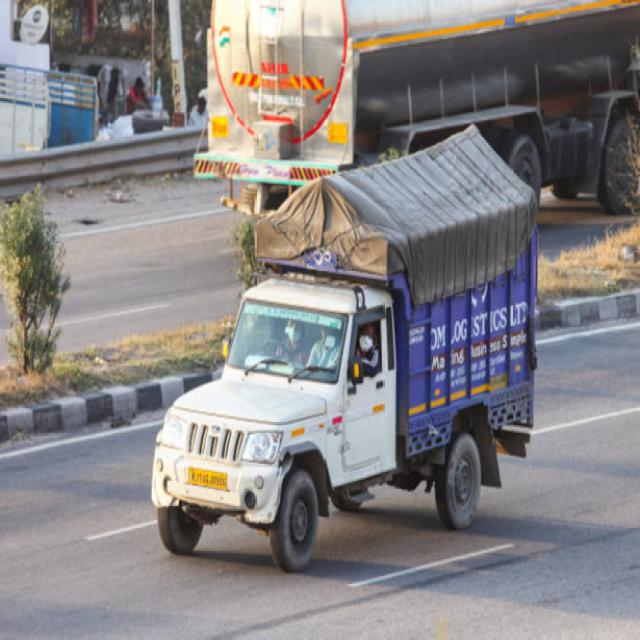Vehicles: (142, 146, 564, 577)
